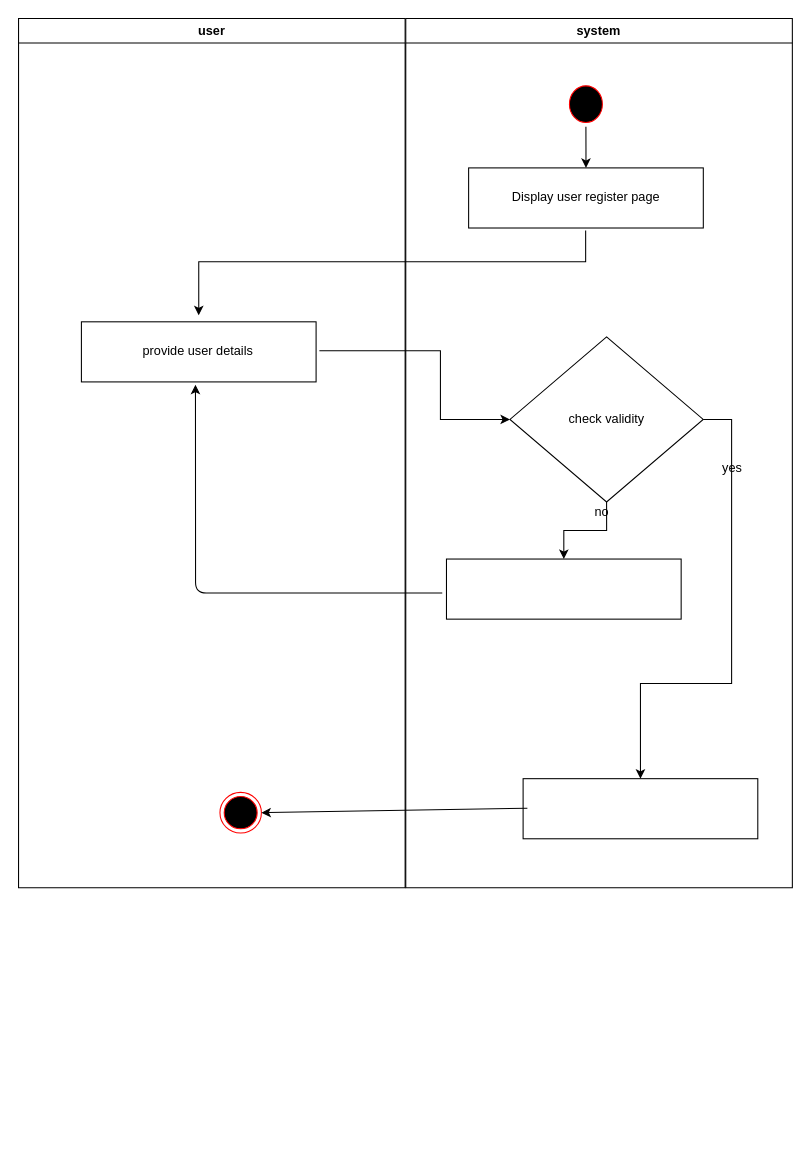
Some shapes in this 811 by 1150 pixel diagram are drawn without their labels. Here are the shapes that lost their labels. From the top down, the box of each, then its label:
(445, 558, 681, 619): display error
(522, 778, 758, 839): redirect to login
